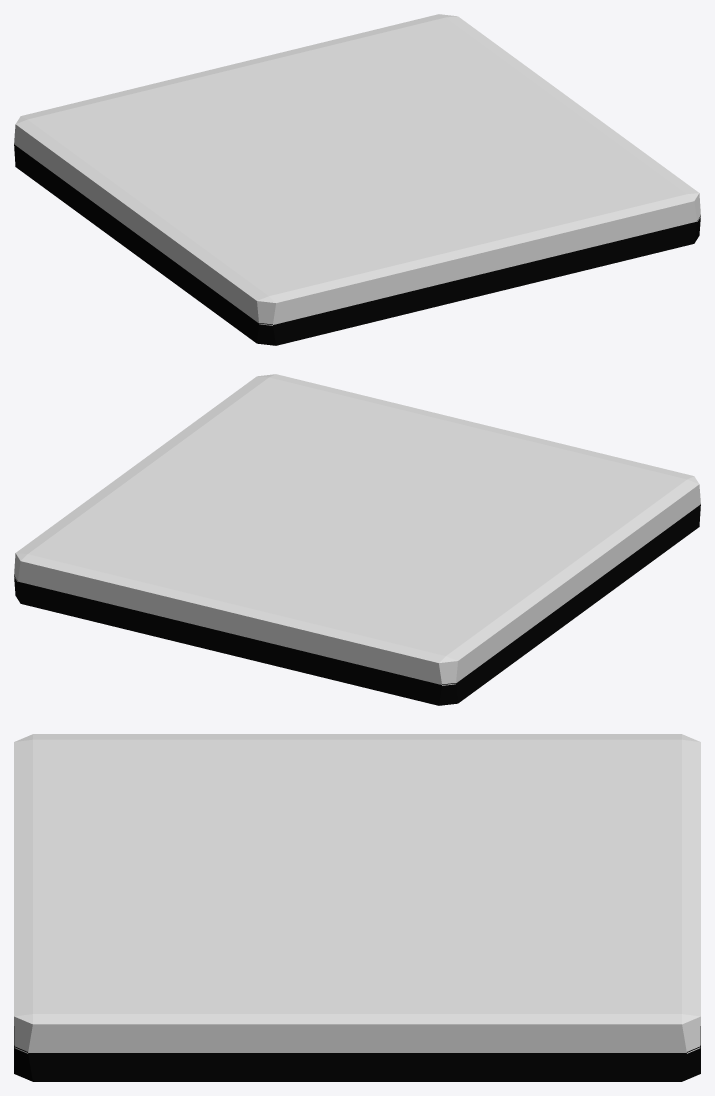
File: Tile.glb
3 renders of one model, top to bottom at view 1: azimuth 30°, elevation 25°; view 2: azimuth 150°, elevation 25°; view 3: azimuth 270°, elevation 25°, orthographic. The views are drawn at different scales.
Visible parts, largest first — view 1: Tile; view 2: Tile; view 3: Tile.
Part boxes in pixels (<box>): Tile: <box>14,14,700,345</box>; Tile: <box>14,374,700,705</box>; Tile: <box>14,734,700,1081</box>.
Bounding box in the file's own units: 1 × 0.1005 × 1.
Materials: 2 (1 with a texture image).
